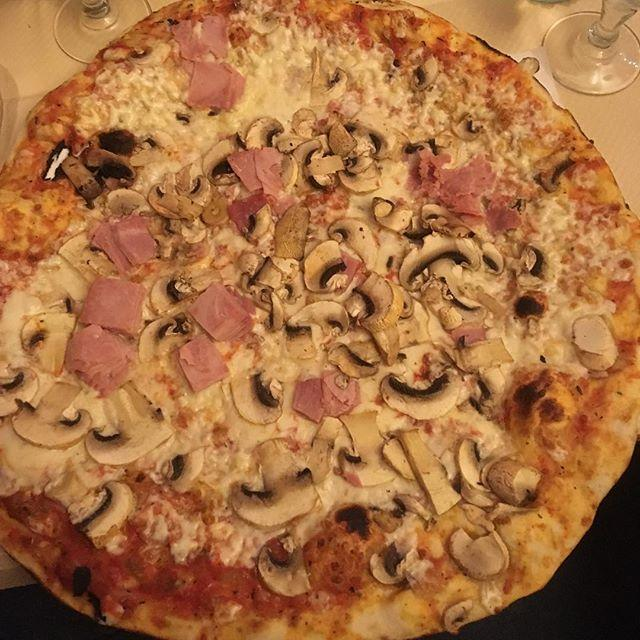champignon: (223, 438, 319, 530), (10, 373, 94, 454), (88, 394, 179, 467), (397, 233, 485, 301), (374, 375, 476, 424), (68, 477, 136, 550), (336, 410, 396, 488), (284, 137, 349, 202), (252, 536, 315, 602), (280, 298, 353, 350), (229, 369, 290, 427), (147, 174, 214, 222)
